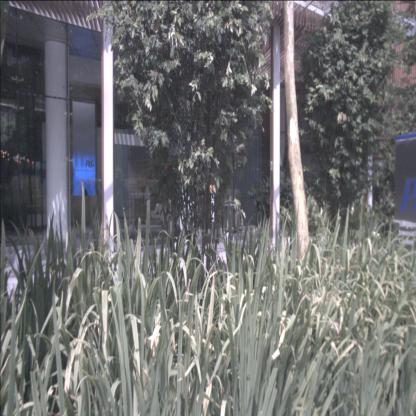human-pedestrian-adult: (142, 180, 152, 225)
